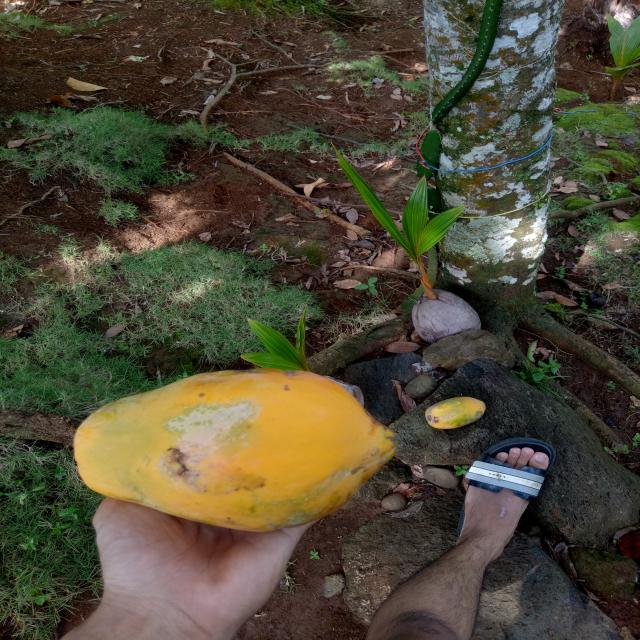Pepaya rippen: (70, 373, 397, 531), (424, 386, 488, 431)
